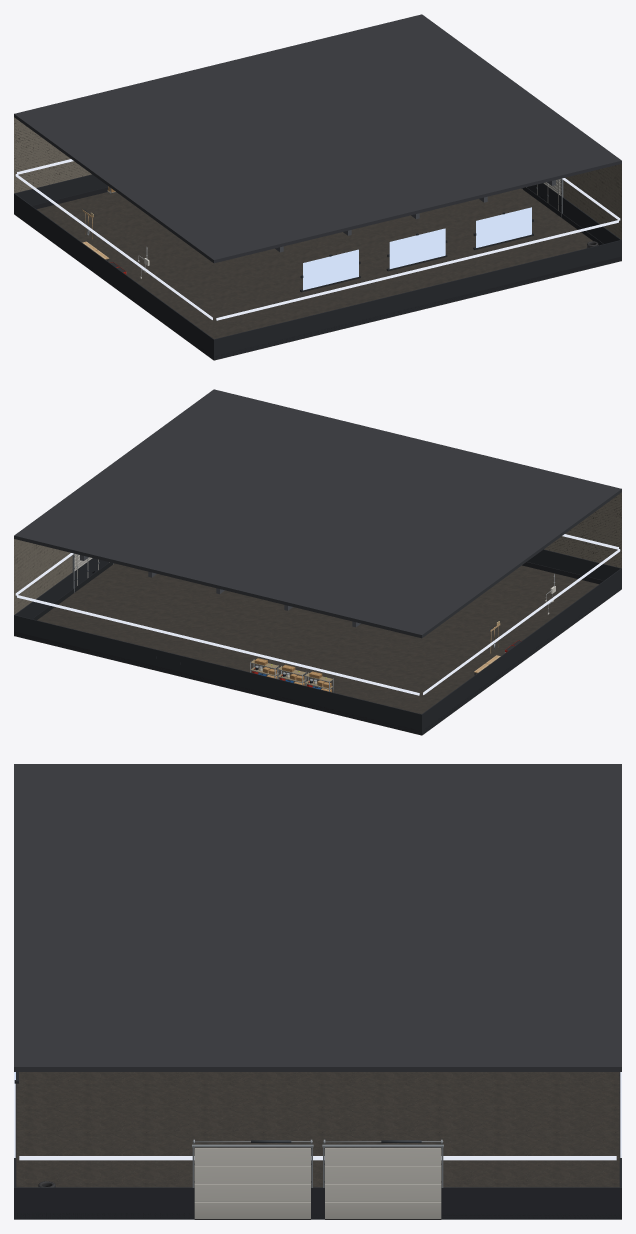
Rendered from studio.glb.
The picture shows the model from 3 angles, top to bottom: view 1: azimuth 30°, elevation 25°; view 2: azimuth 150°, elevation 25°; view 3: azimuth 270°, elevation 25°; orthographic projection. The views are drawn at different scales.
Parts seen in each view (by area): view 1: studio; view 2: studio; view 3: studio.
Boxes of the visible parts, x1,y1,x2,y2 form: studio: [14, 14, 621, 360]; studio: [14, 389, 621, 735]; studio: [14, 764, 621, 1219].
Bounding box in the file's own units: 66.08 × 15.53 × 56.
51 materials, 5 textured.
